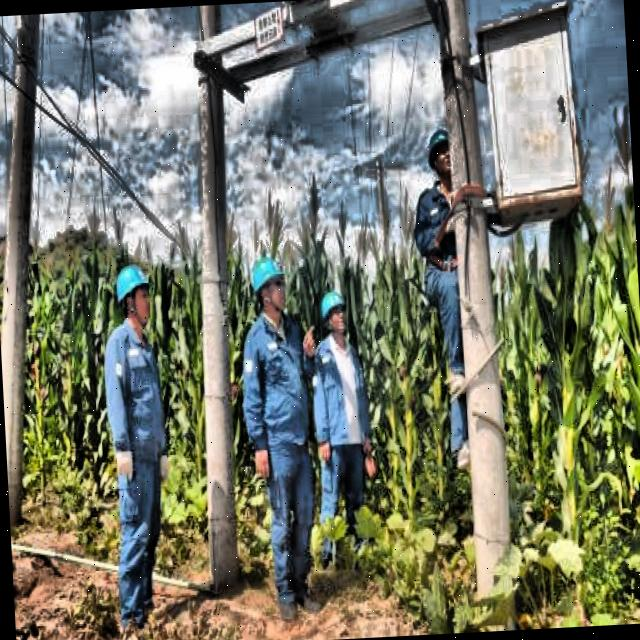helmet: (112, 257, 156, 331), (248, 250, 290, 326), (422, 122, 456, 191), (318, 285, 353, 341)
